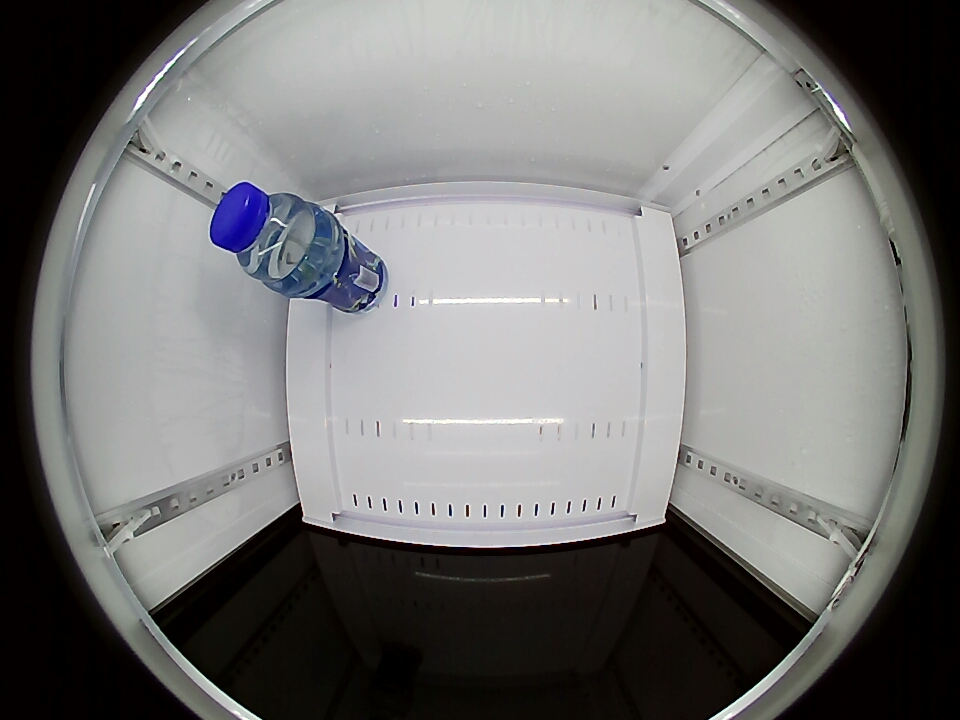maidong: (209, 182, 321, 286)
